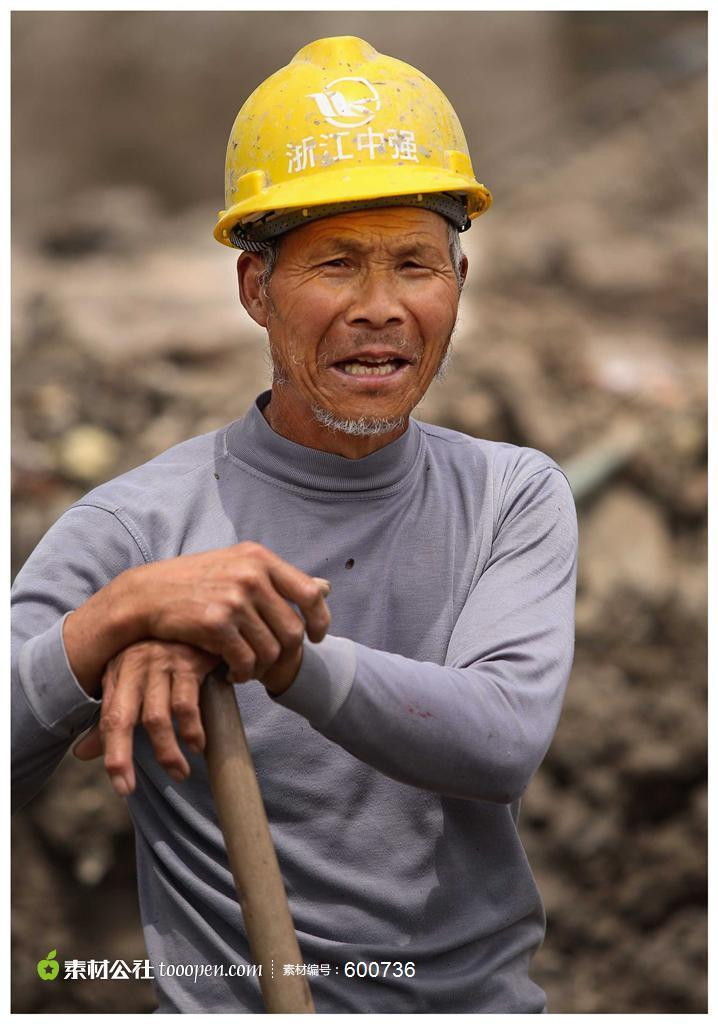helmet: (211, 36, 495, 253)
